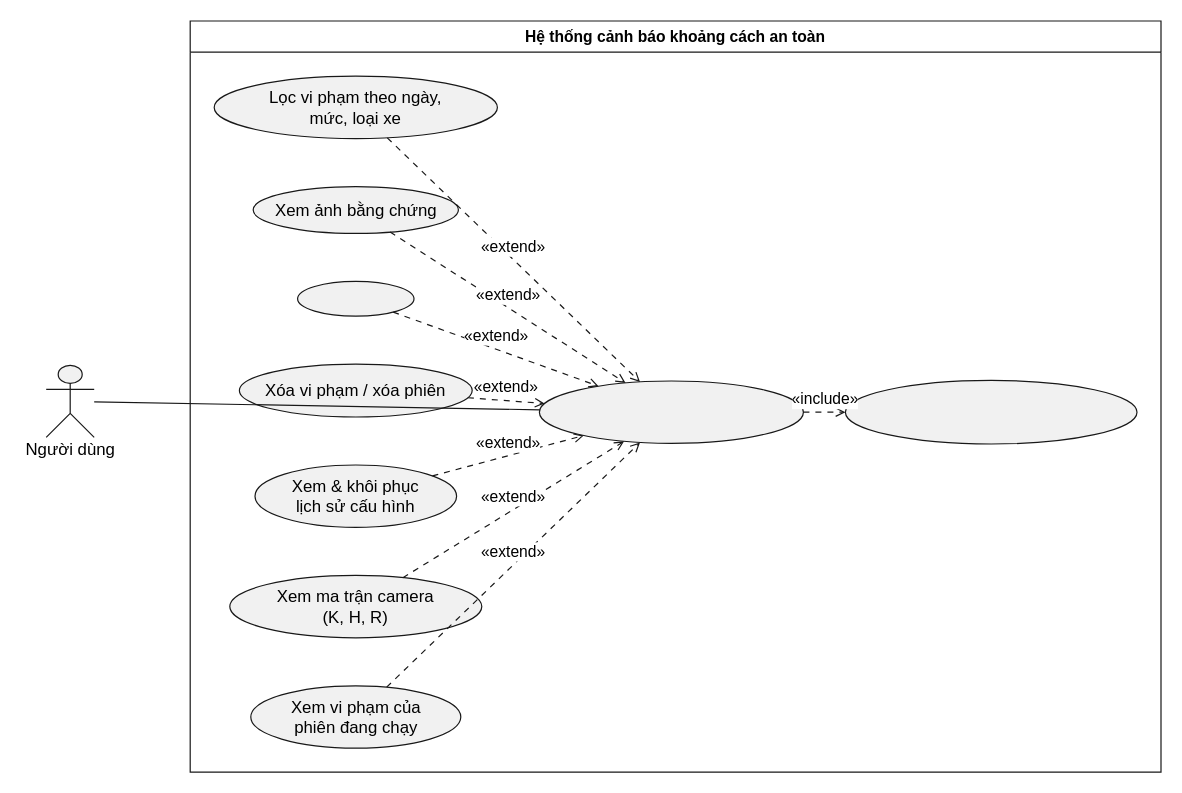
Image size: 1182x793. Some labels were removed from this diagram. Each missing label, with the centre of its shape:
"UC05. Quản lý nhật ký cảnh báo" belongs at point (670, 411).
"Xem thống kê & danh sách phiên giám sát" belongs at point (990, 411).
"Xuất CSV" belongs at point (355, 298).
